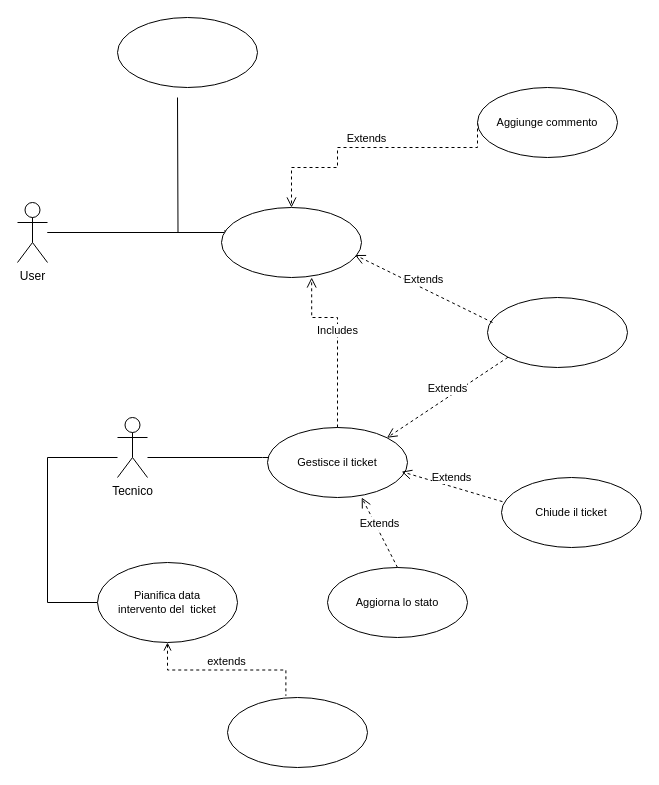
Some shapes in this 659 by 785 pixel diagram are drawn without their labels. Each missing label, with the centre of its shape:
"Segue il ticket" belongs at point 187,52.
"Ticket Filter" belongs at point 557,332.
"Visualizza calendario" belongs at point 297,732.
"Visualizza i suoi ticket" belongs at point 291,242.
